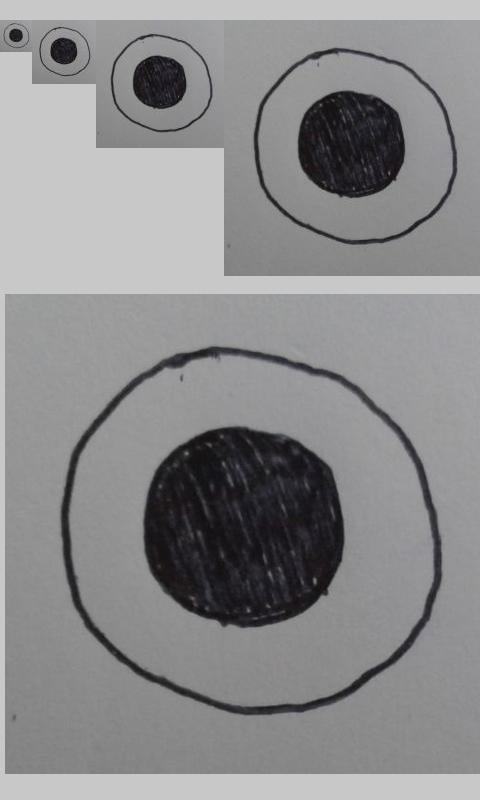radio_button: (57, 344, 446, 719), (251, 45, 460, 248), (110, 32, 213, 133), (38, 26, 91, 77), (2, 22, 30, 49)
